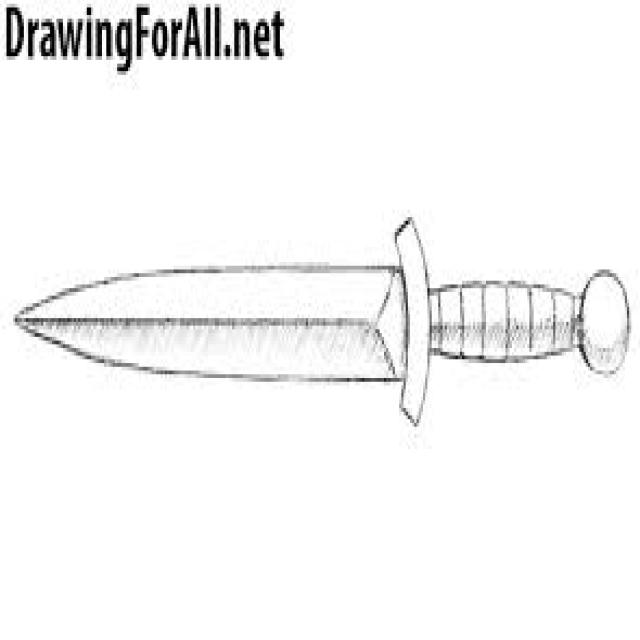Gun: (10, 214, 640, 456)
